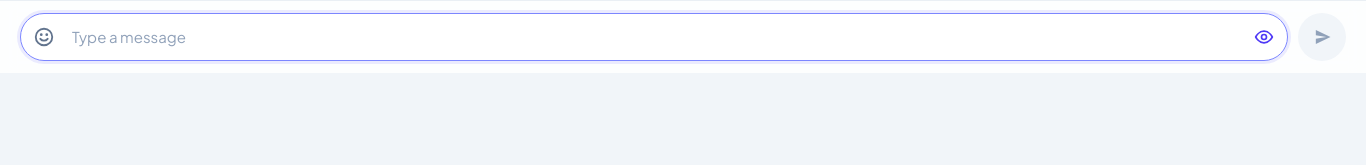
Test case: Composer translation preview › says no translation is needed when writing in the recipient language
Type "नमस्ते" into the text box labelled "message".
click(654, 37); type("नमस्ते")  # box top-left (68, 19), bottom-right (1240, 55)
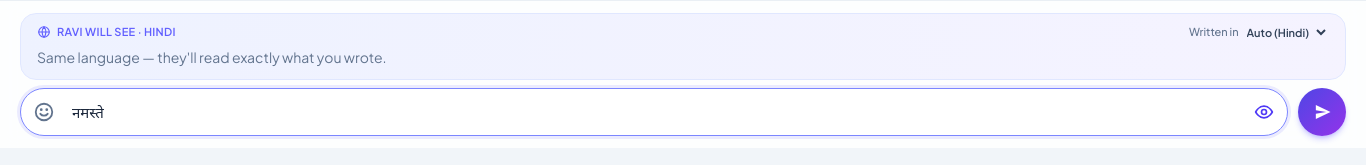
Expected: the text "Same language — they'll read exactly what you wrote." is shown, top-left (37, 48), bottom-right (386, 66)
